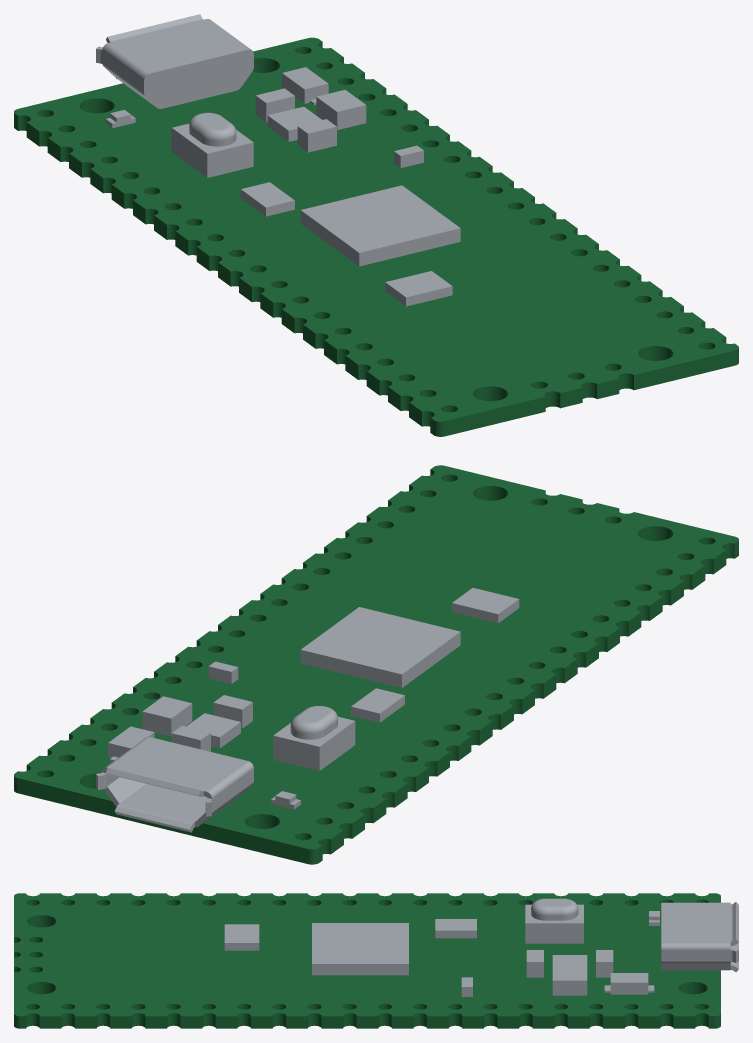
Rendered from raspberry_pi_pico.glb.
The picture shows the model from 3 angles, top to bottom: view 1: azimuth 30°, elevation 25°; view 2: azimuth 150°, elevation 25°; view 3: azimuth 270°, elevation 25°; orthographic projection. The views are drawn at different scales.
Visible parts, largest first — view 1: pcb, components; view 2: pcb, components; view 3: pcb, components.
Boxes of the visible parts, left/top/right/bottom form: pcb: left=14, top=37, right=738, bottom=436; components: left=96, top=14, right=460, bottom=306; pcb: left=14, top=465, right=738, bottom=864; components: left=96, top=588, right=519, bottom=832; pcb: left=14, top=893, right=720, bottom=1028; components: left=224, top=898, right=738, bottom=996.
Bounding box in the file's own units: 0.021 × 0.00373 × 0.0523.
